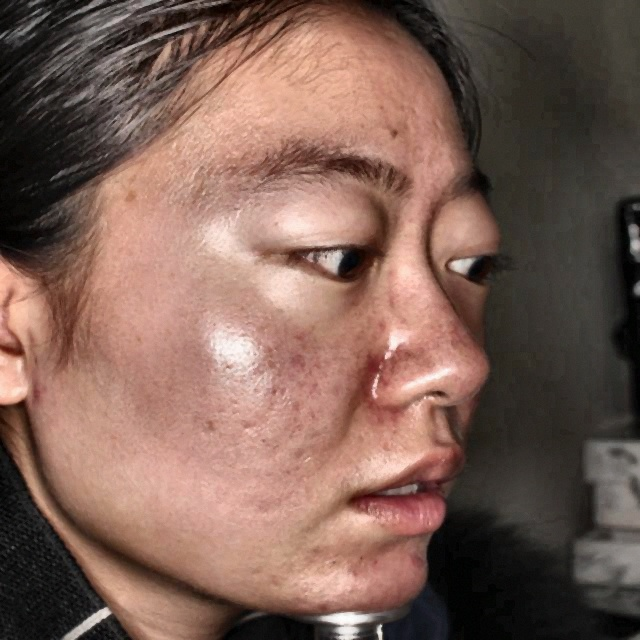comedone: (401, 550, 431, 573)
